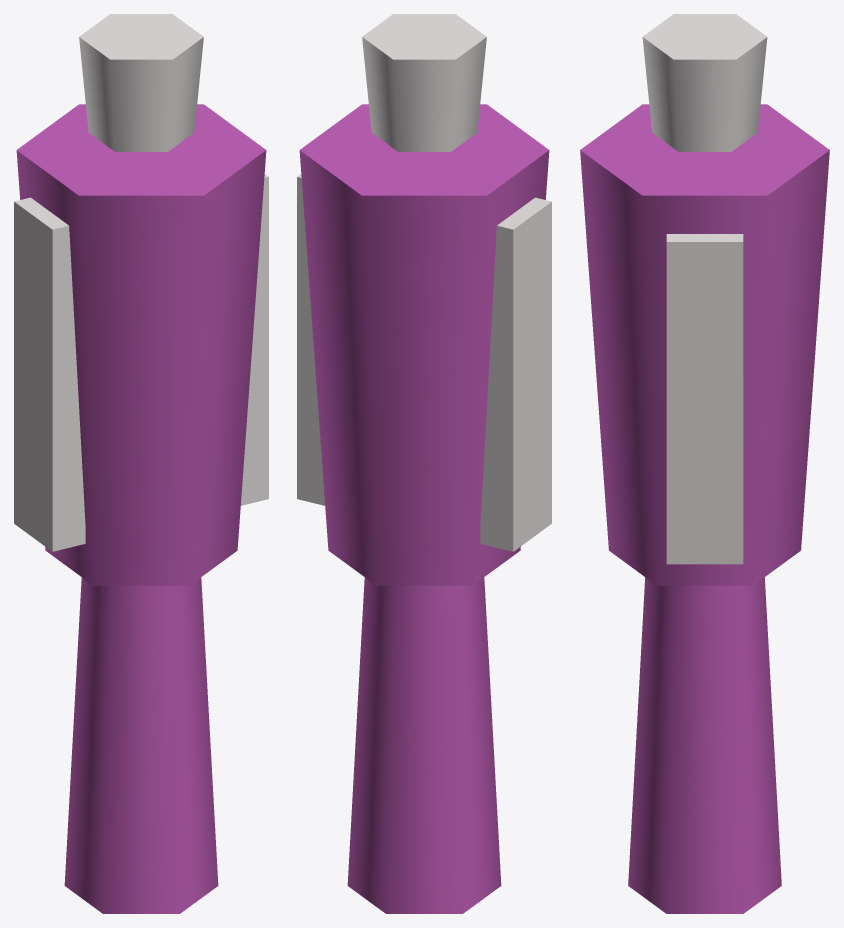
The model's file is robot.glb.
3 views of the same model, side by side, from view 1: azimuth 30°, elevation 25°; view 2: azimuth 150°, elevation 25°; view 3: azimuth 270°, elevation 25° (orthographic).
Parts seen in each view (by area): view 1: Body, Stem, SideL, Head, SideR; view 2: Body, Stem, SideL, Head, SideR; view 3: Body, Stem, SideR, Head.
Part boxes in pixels (bbox=[...]): Body: bbox=[16, 104, 266, 585]; Stem: bbox=[64, 577, 218, 913]; SideL: bbox=[14, 197, 85, 551]; Head: bbox=[79, 14, 203, 151]; SideR: bbox=[240, 174, 268, 505]; Body: bbox=[299, 104, 549, 585]; Stem: bbox=[347, 577, 501, 913]; SideL: bbox=[480, 197, 551, 551]; Head: bbox=[362, 14, 486, 151]; SideR: bbox=[297, 174, 325, 505]; Body: bbox=[580, 104, 829, 585]; Stem: bbox=[628, 577, 781, 913]; SideR: bbox=[666, 234, 743, 564]; Head: bbox=[642, 14, 767, 151].
Size of the model in its own units: 0.52 by 1.95 by 0.52.
